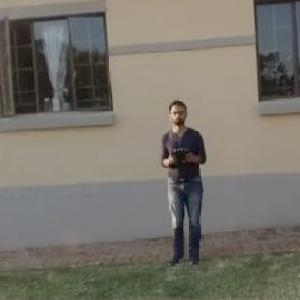follow: (158, 93, 213, 269)
